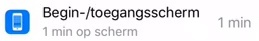name: (37, 2, 204, 22)
time: (38, 25, 76, 40)
